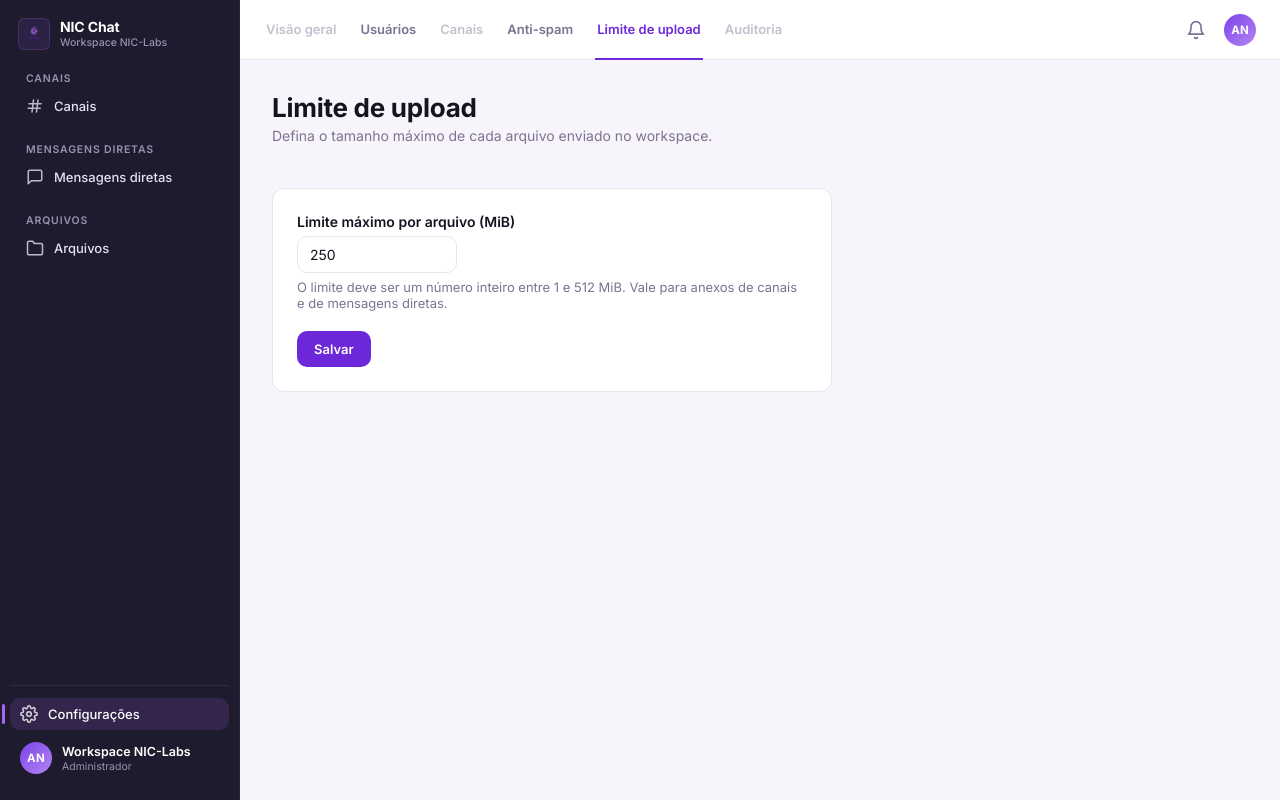
Test case: AdminUploadLimitPage › reports a failed save and leaves the form usable
This screenshot has width=1280, height=800.
Replace the text in the number field labelled "Limite máximo por arquivo (MiB)" with "100" at [377, 254], box [297, 236, 457, 273]
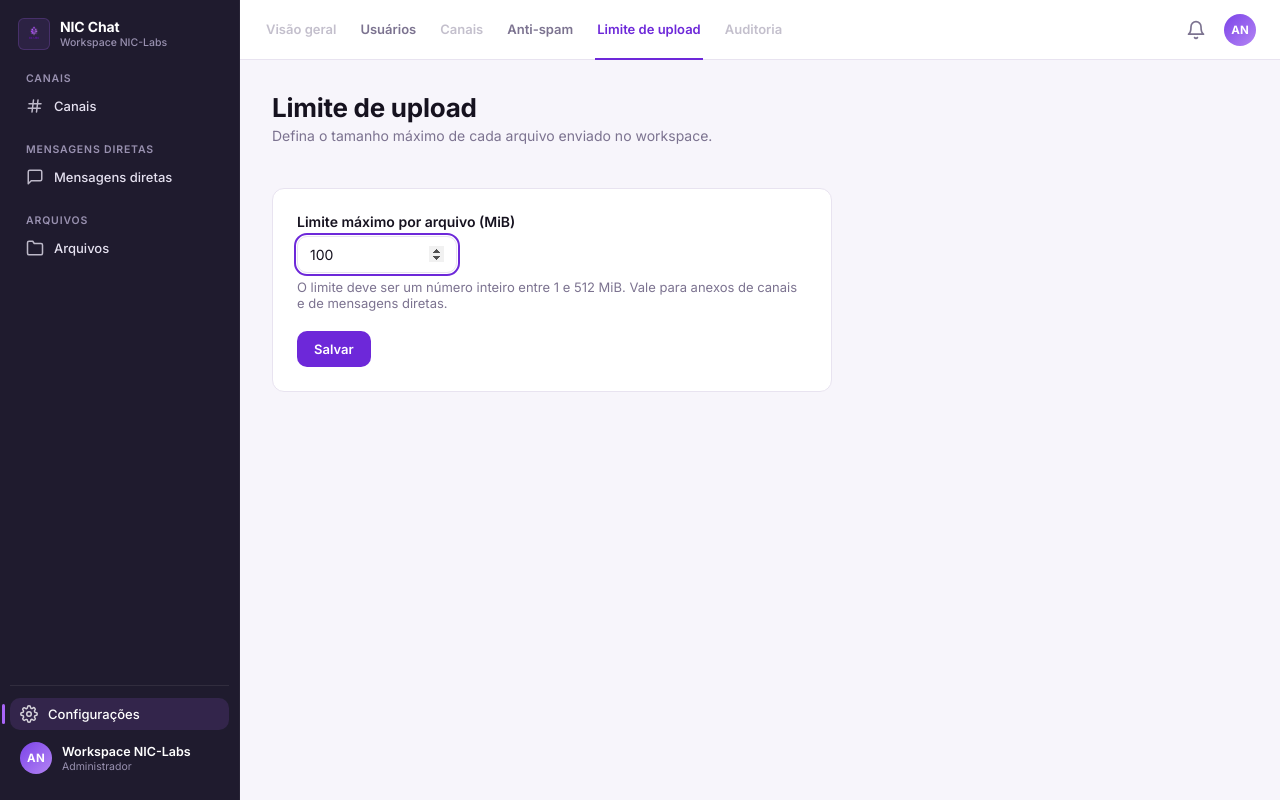
Click the button "Salvar" at [334, 349], box [297, 331, 371, 367]
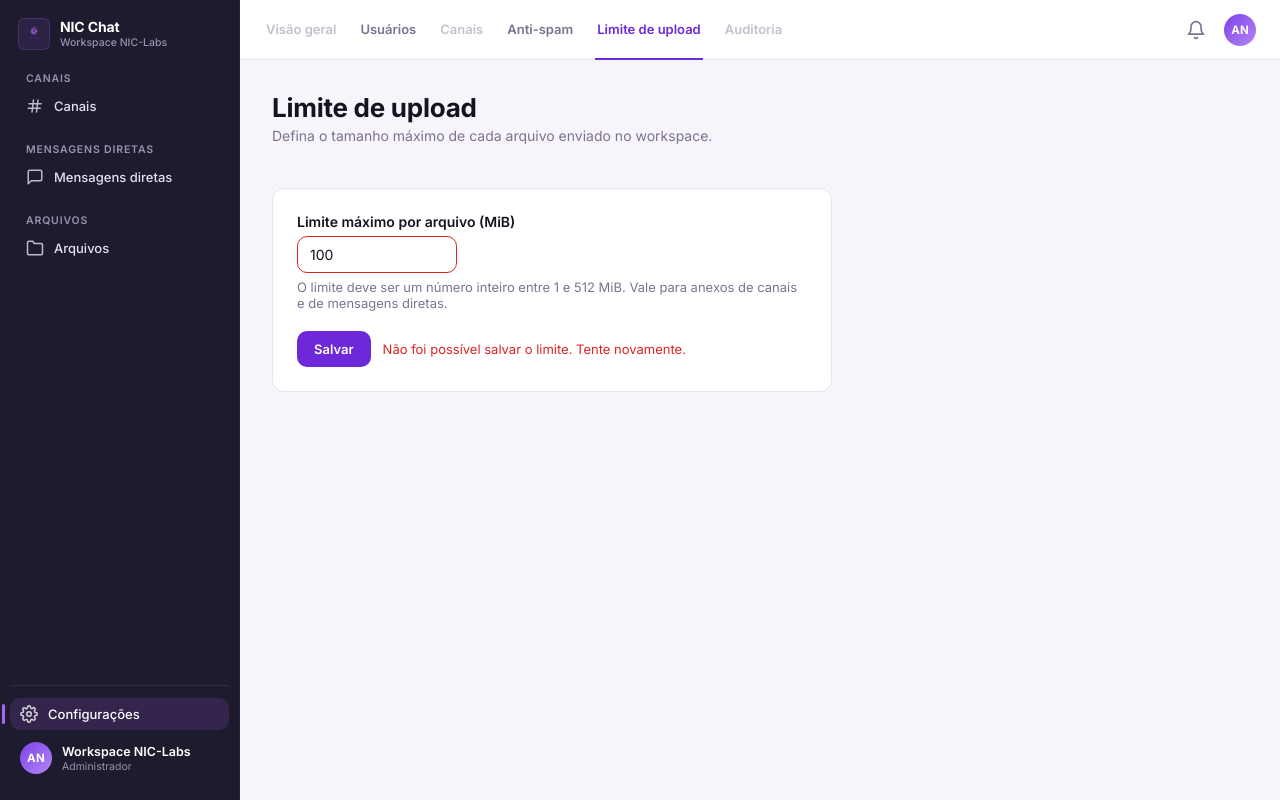
Expected: the number field labelled "Limite máximo por arquivo (MiB)" is enabled, [297, 236, 457, 273]
Expected: the message shows "Não foi possível salvar", [383, 341, 686, 357]
